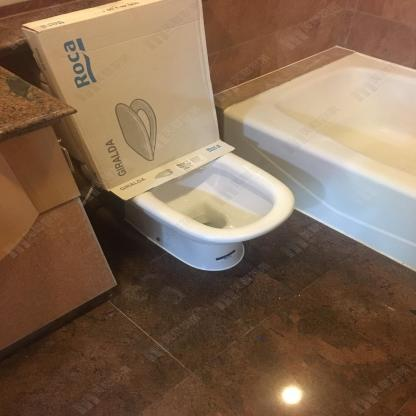Bathtub: (215, 45, 416, 272)
Toilet: (122, 146, 294, 271)
